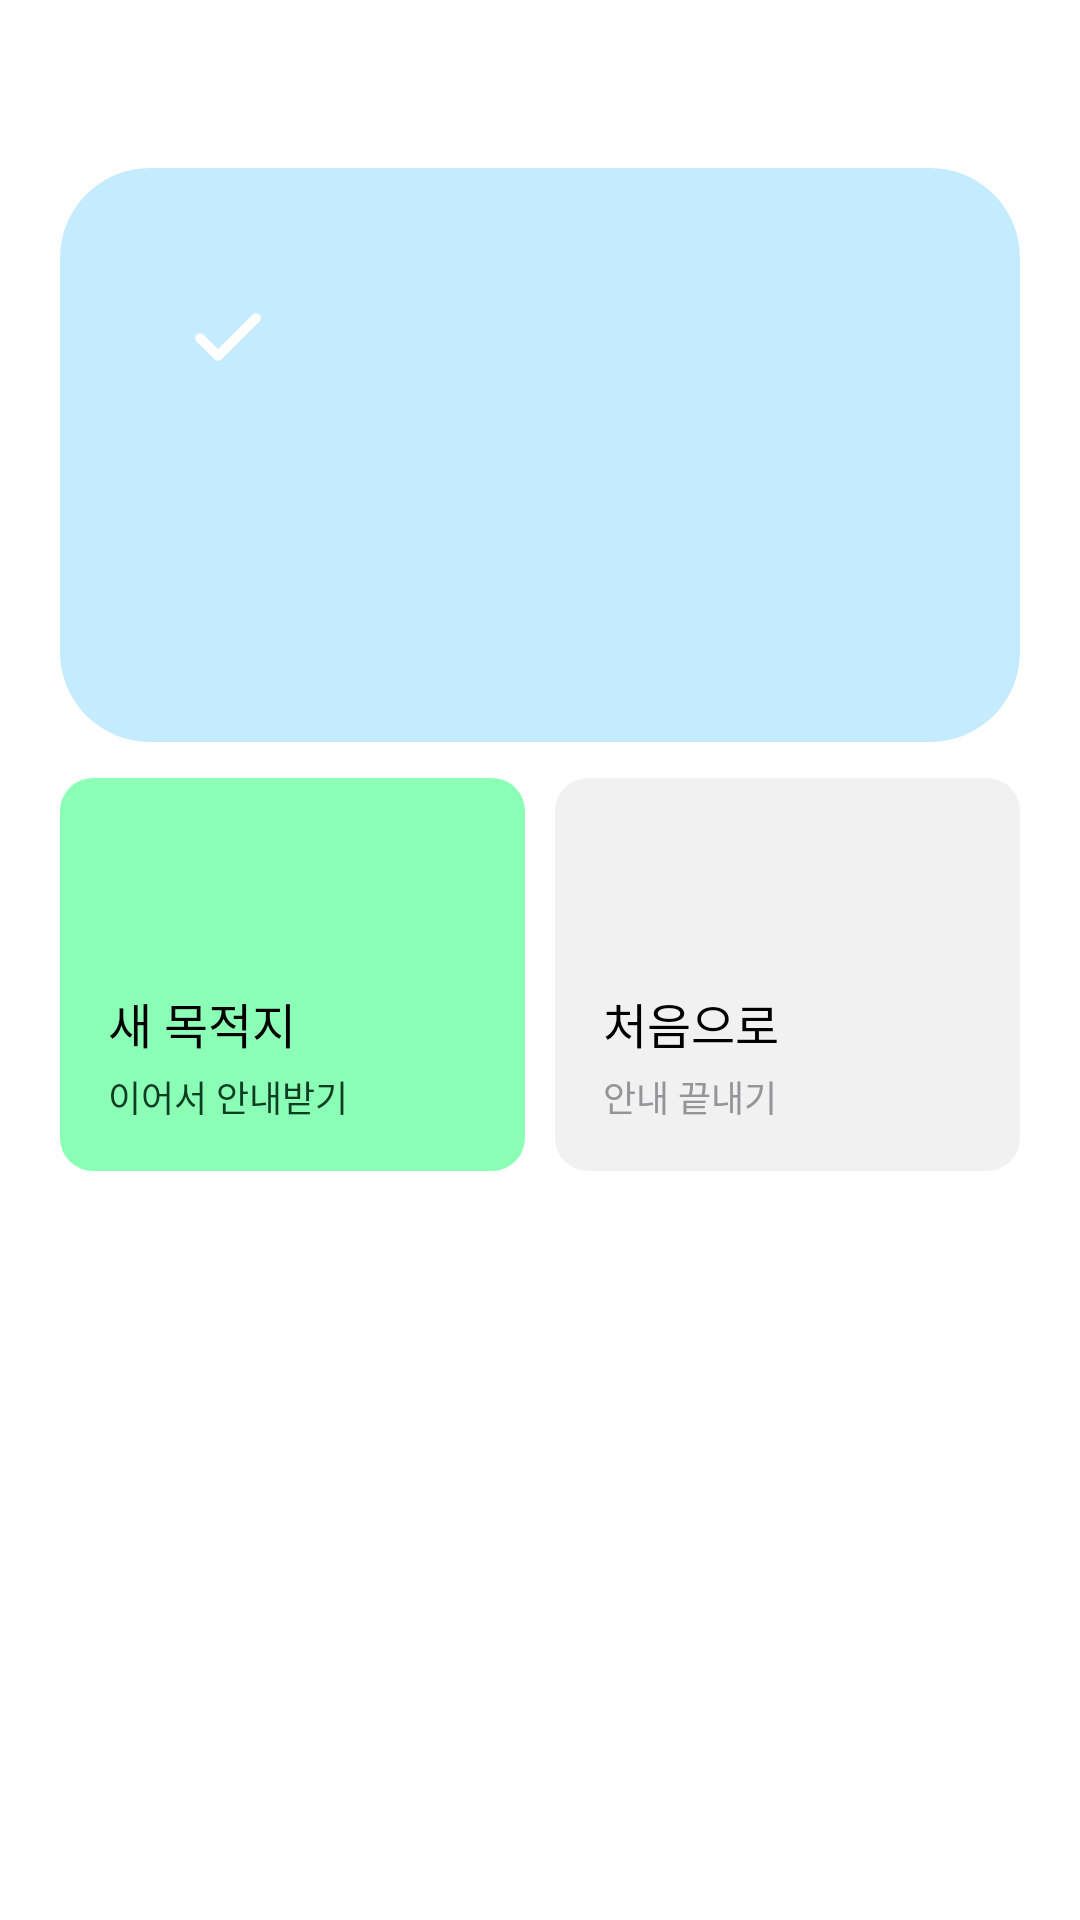

Named icons in this screenshot (1080×1920) and their bounding boxes, (x1, y1, x2, y2):
check: (195, 313, 261, 361)
